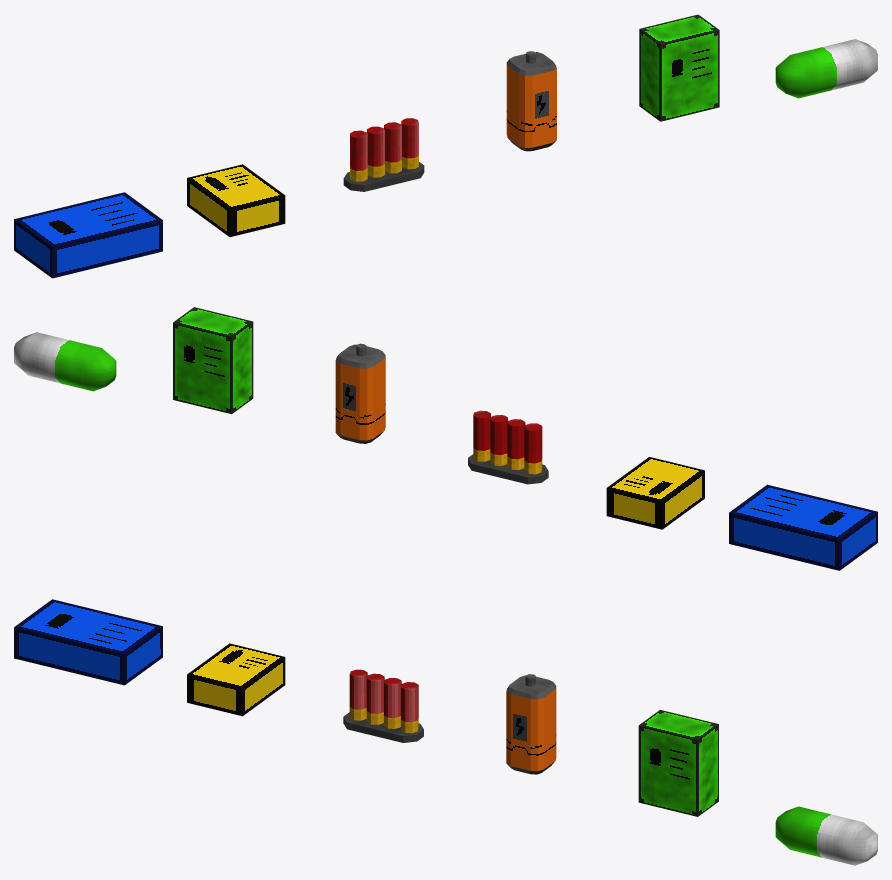
Rendered from ammon.glb.
The picture shows the model from 3 angles, top to bottom: view 1: azimuth 30°, elevation 25°; view 2: azimuth 150°, elevation 25°; view 3: azimuth 330°, elevation 25°; orthographic projection.
Parts seen in each view (by area): view 1: pistol, explosive, rifle, energy, health, Cylinder, shotgun; view 2: pistol, explosive, rifle, energy, health, Cylinder, shotgun; view 3: pistol, explosive, rifle, energy, health, Cylinder, shotgun.
Part boxes in pixels (box(x1,y1,x2,y2)): pistol: box(14, 192, 162, 278); explosive: box(639, 14, 719, 121); rifle: box(187, 164, 285, 236); energy: box(506, 51, 556, 151); health: box(775, 39, 877, 98); Cylinder: box(350, 118, 418, 181); shotgun: box(343, 162, 424, 191); pistol: box(729, 484, 877, 570); explosive: box(173, 307, 253, 414); rifle: box(606, 457, 704, 529); energy: box(335, 343, 385, 443); health: box(14, 332, 116, 391); Cylinder: box(473, 410, 542, 474); shotgun: box(468, 454, 548, 484); pistol: box(14, 599, 162, 685); explosive: box(638, 710, 718, 816); rifle: box(187, 643, 285, 716); energy: box(506, 674, 556, 774); health: box(775, 806, 877, 865); Cylinder: box(349, 669, 418, 733); shotgun: box(343, 712, 423, 742).
Bounding box in the file's own units: 11.43 × 1.38 × 1.
1 material, 1 textured.
